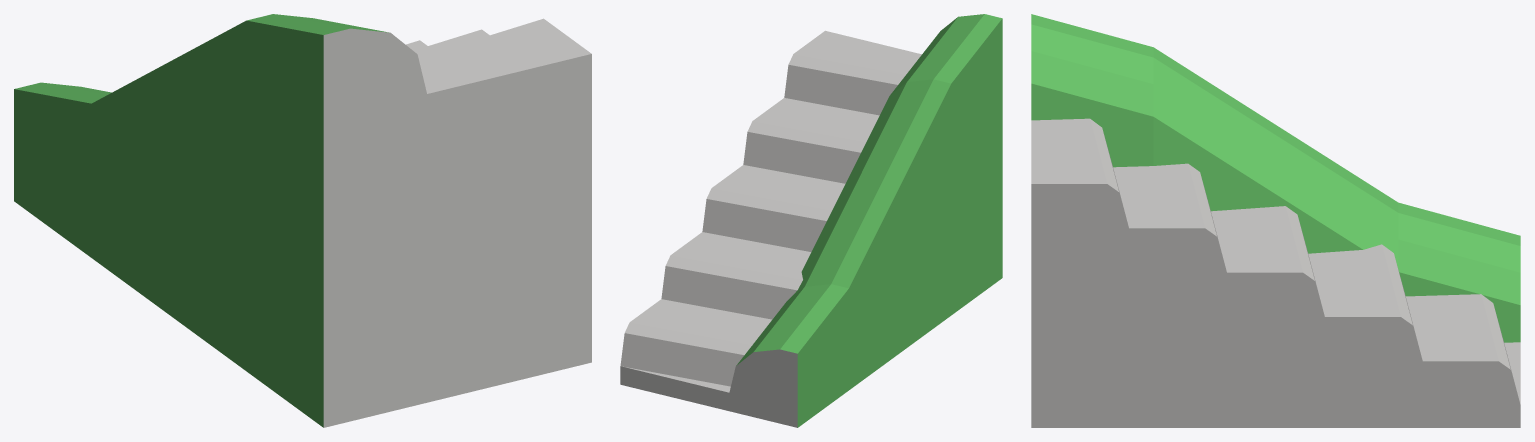
File: Path_Steps_Grass_Edge.glb
3 views of the same model, side by side, from view 1: azimuth 30°, elevation 25°; view 2: azimuth 150°, elevation 25°; view 3: azimuth 270°, elevation 25° (orthographic). The views are drawn at different scales.
Parts seen in each view (by area): view 1: object1; view 2: object1; view 3: object1.
Boxes of the visible parts, <box> form: object1: <box>14,14,591,427</box>; object1: <box>620,14,1002,427</box>; object1: <box>1031,14,1520,427</box>.
Bounding box in the file's own units: 1 × 1.4 × 2.
